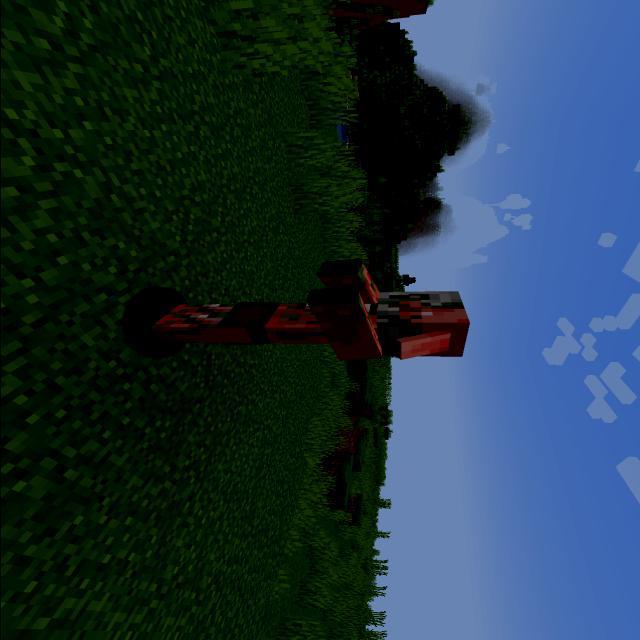Zombified Piglin: (130, 256, 480, 373)
